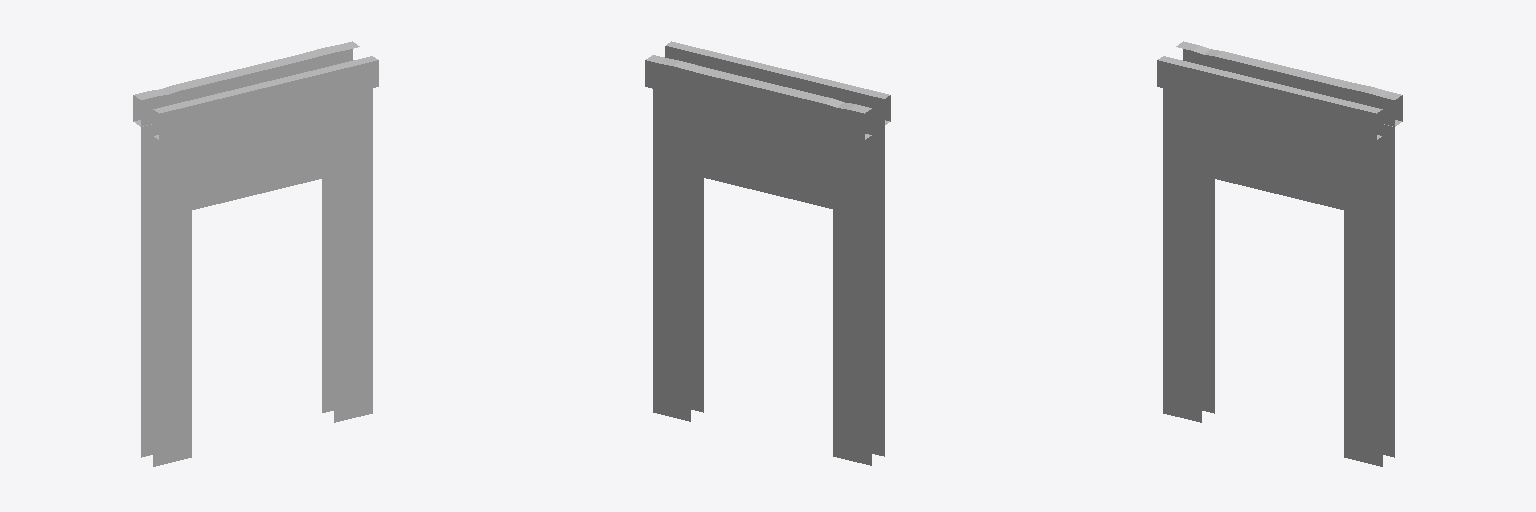
The model's file is Wall_UnevenBrick_Door_Flat.obj.
The picture shows the model from 3 angles: view 1: azimuth 30°, elevation 25°; view 2: azimuth 150°, elevation 25°; view 3: azimuth 330°, elevation 25°; orthographic projection.
Parts seen in each view (by area): view 1: Wall_UnevenBrick_Door_Flat; view 2: Wall_UnevenBrick_Door_Flat; view 3: Wall_UnevenBrick_Door_Flat.
Boxes of the visible parts, box(x1,y1,x2,y2) form: Wall_UnevenBrick_Door_Flat: box(133, 41, 378, 466); Wall_UnevenBrick_Door_Flat: box(645, 41, 890, 465); Wall_UnevenBrick_Door_Flat: box(1157, 41, 1402, 466).
Size of the model in its own units: 2 by 3.12 by 0.4065.